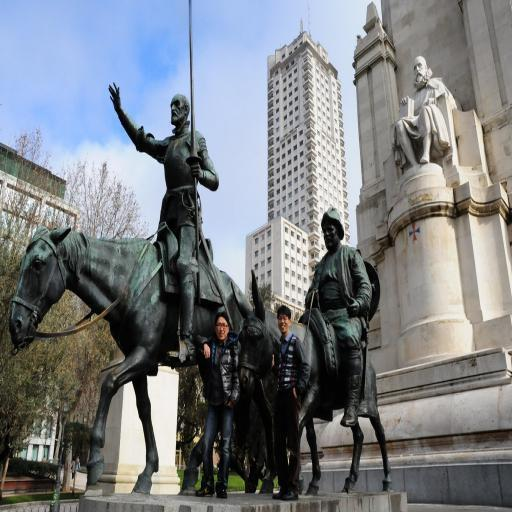horse: (6, 237, 246, 501), (229, 270, 391, 496)
